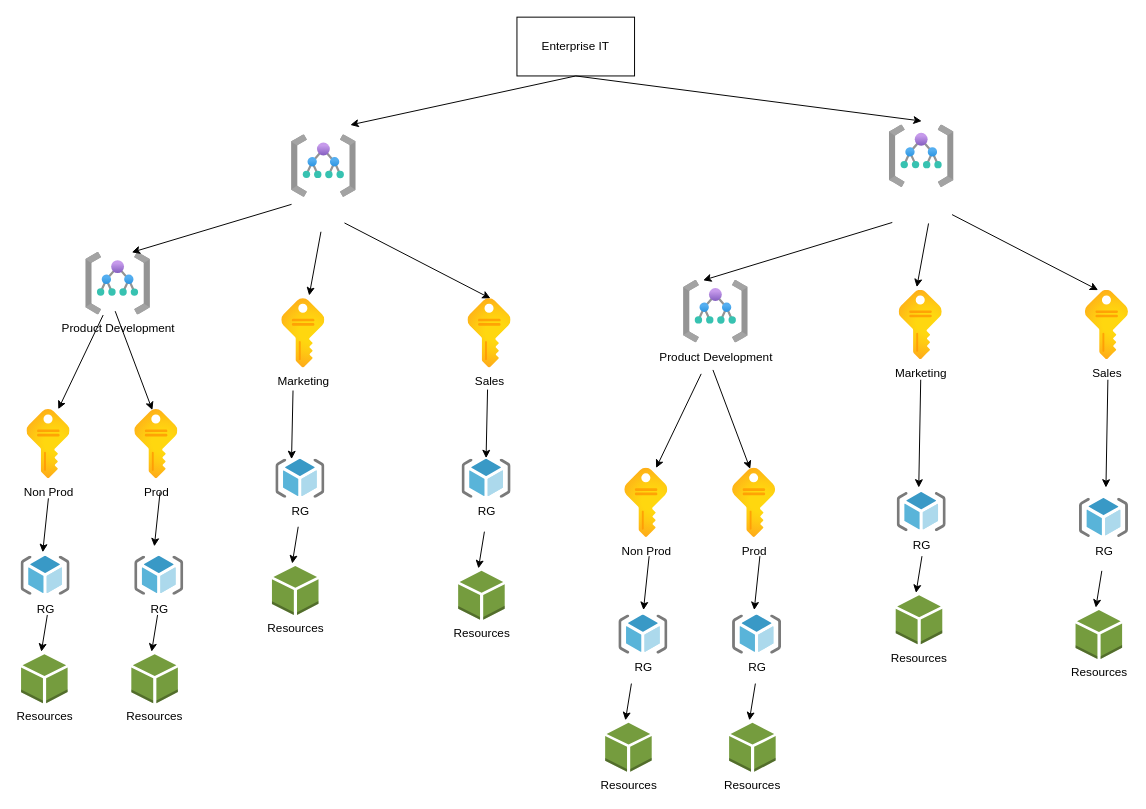
Image size: 1146x809. Some labels were removed from this diagram. The shapes that lost their labels are listed below. From the top down, each one's box as (x1, y1, x2, y2) in pixels, then its label:
(291, 134, 356, 197): Apparel
(889, 124, 954, 187): Sporting Goods
